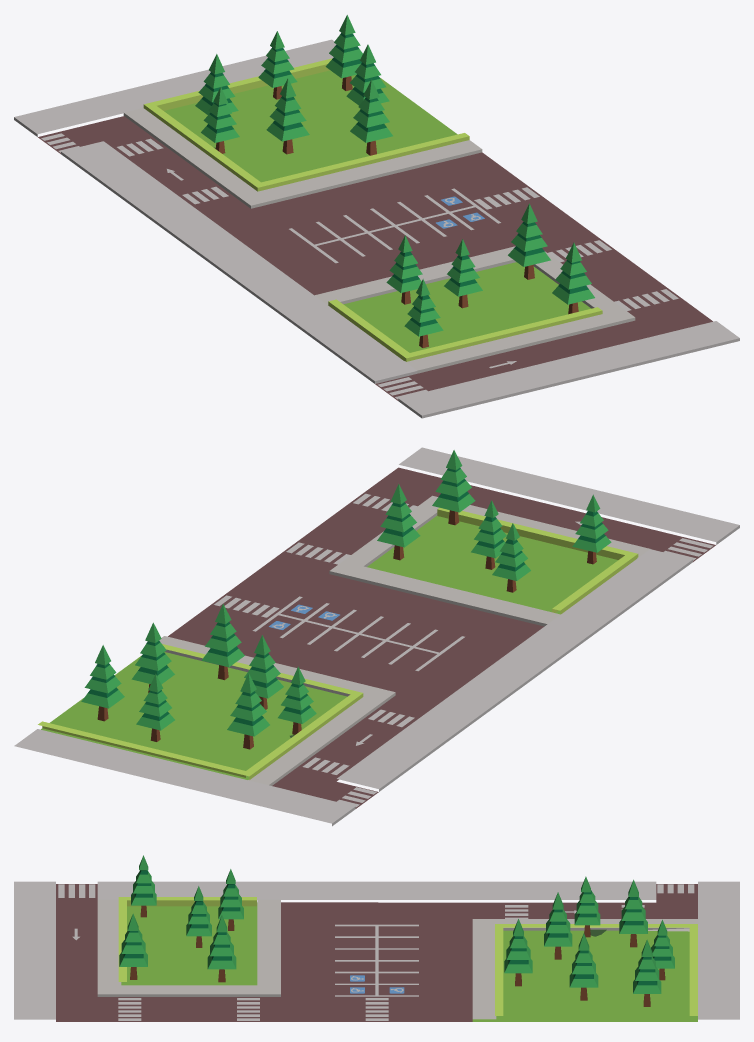
The model's file is parking_lvl_2.FBX.
The picture shows the model from 3 angles, top to bottom: view 1: azimuth 30°, elevation 25°; view 2: azimuth 150°, elevation 25°; view 3: azimuth 270°, elevation 25°; orthographic projection. The views are drawn at different scales.
Visible parts, largest first — view 1: parking_lvl_2; view 2: parking_lvl_2; view 3: parking_lvl_2.
Boxes of the visible parts, x1,y1,x2,y2 form: parking_lvl_2: (14,15,739,418); parking_lvl_2: (14,447,739,826); parking_lvl_2: (14,855,739,1021).
Bounding box in the file's own units: 5852 × 1436 × 13000.
